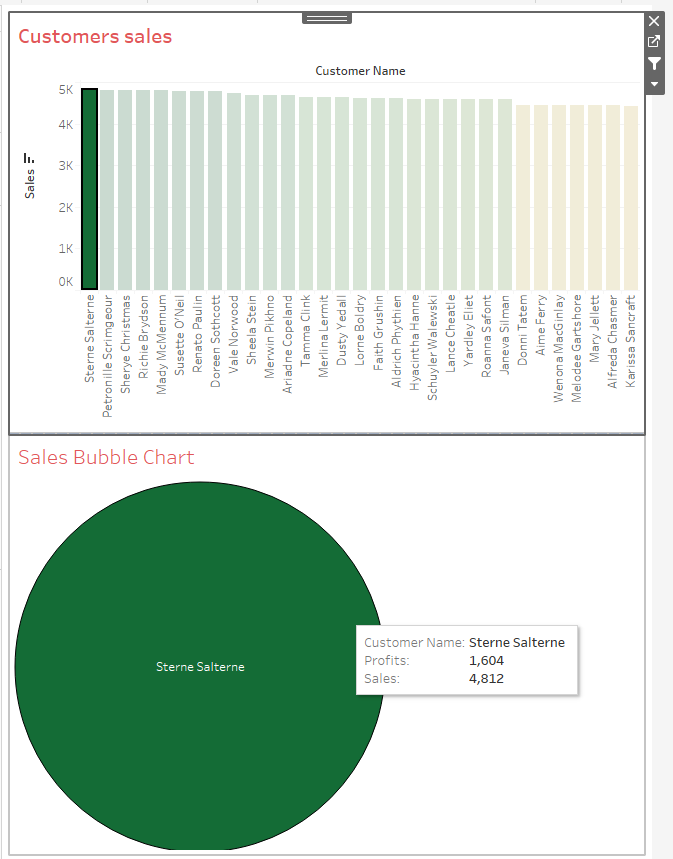

The page's visual inventory and layout, read from the dashboard file:
{"tool":"tableau","page":{"name":"Dashboard 1","canvas":[650,860],"ordinal":0},"visuals":[{"type":"worksheet","title":"Customer Sales","mark":"Automatic","rows":["Sales"],"cols":["Customer Name"],"box":[8,8,634,422]},{"type":"worksheet","title":"Sales Bubble Chart","mark":"Circle","box":[8,430,634,422]}]}

Visuals, with their boxes on the page's 650x860 design canvas (x1, y1, x2, y2). These are canvas units, not pixel positions in the 673x859 screenshot, which may show the page scaled, cropped or inside an application window:
"Customer Sales" worksheet: bbox=[8, 8, 642, 430]
"Sales Bubble Chart" worksheet (Circle marks): bbox=[8, 430, 642, 852]
